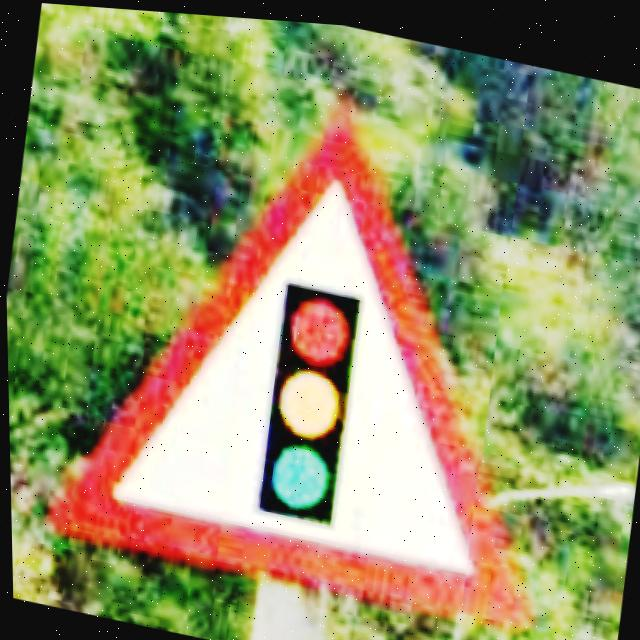signalahead: (49, 114, 522, 618)
